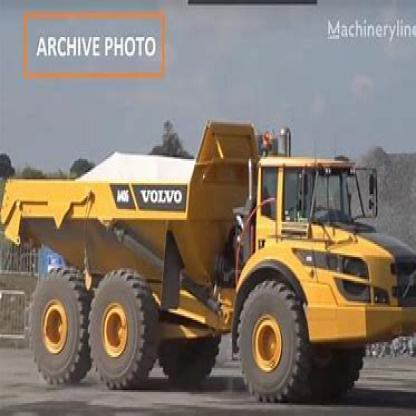dump_truck: (4, 113, 412, 401)
